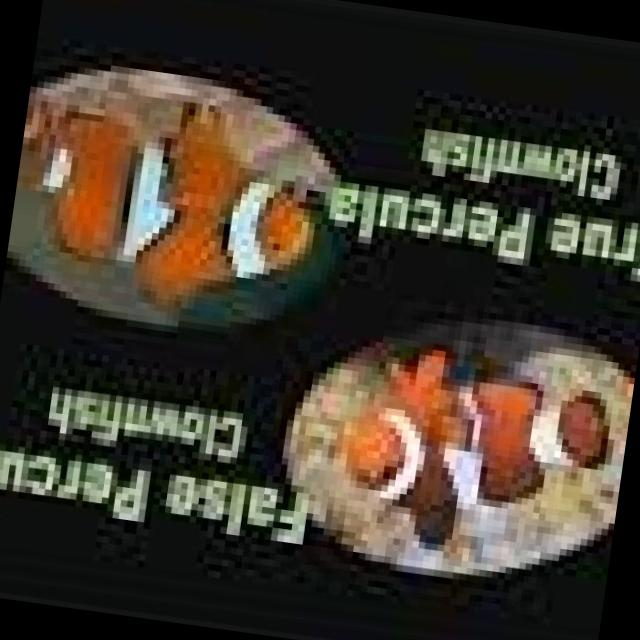ClownFish: (0, 74, 318, 336), (323, 338, 626, 590)
